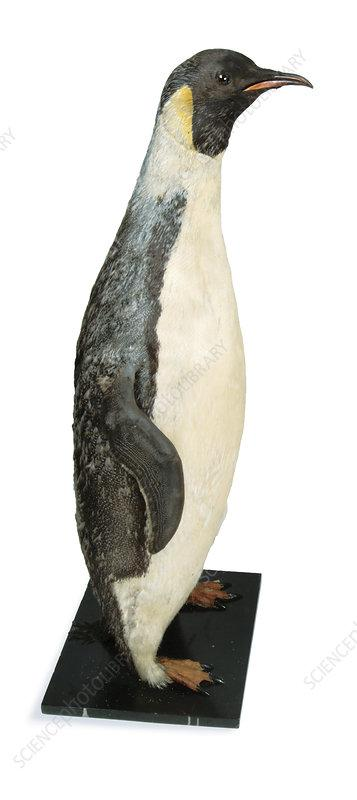emporer: (67, 32, 325, 733)
